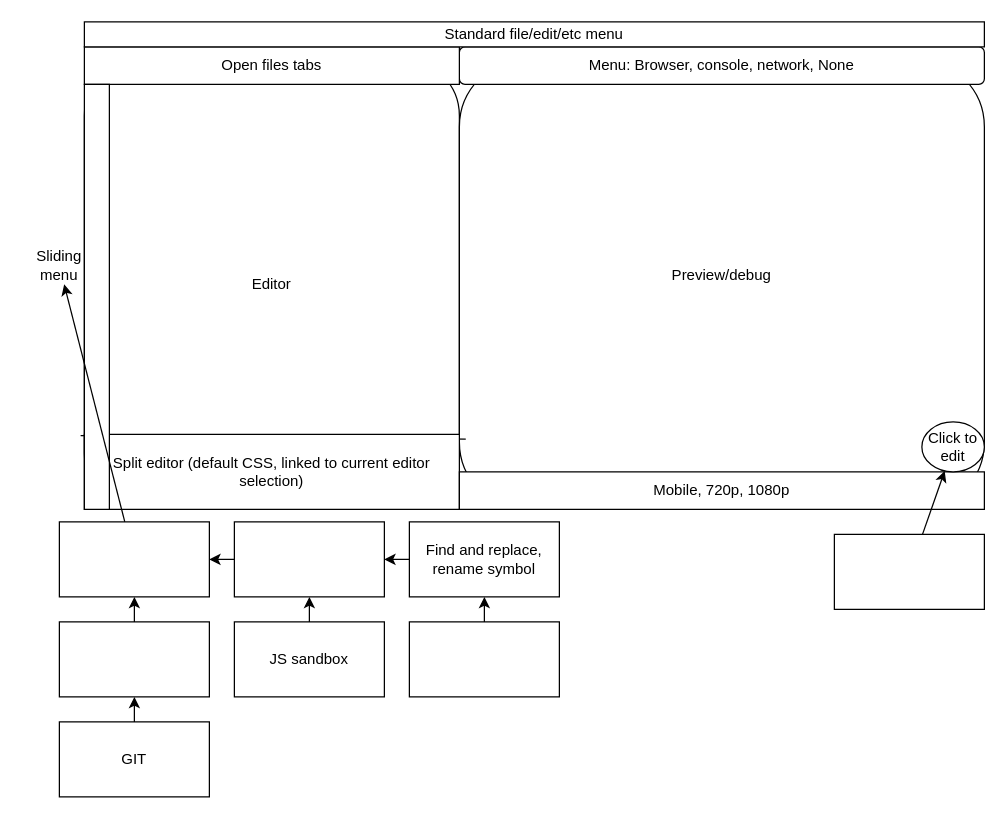
This 1006x819 diagram has some shape labels left out. The centre of each missing label's shape, as x and y in pixels:
Ai refactor, ai bug fix, insert AI templates (metadata, CORS, etc.): [133,559]
Imports, images, links: [483,659]
Indentation: [133,659]
Object summary: [308,559]
Popout menu, remove, edit, edit colors,: [908,571]
